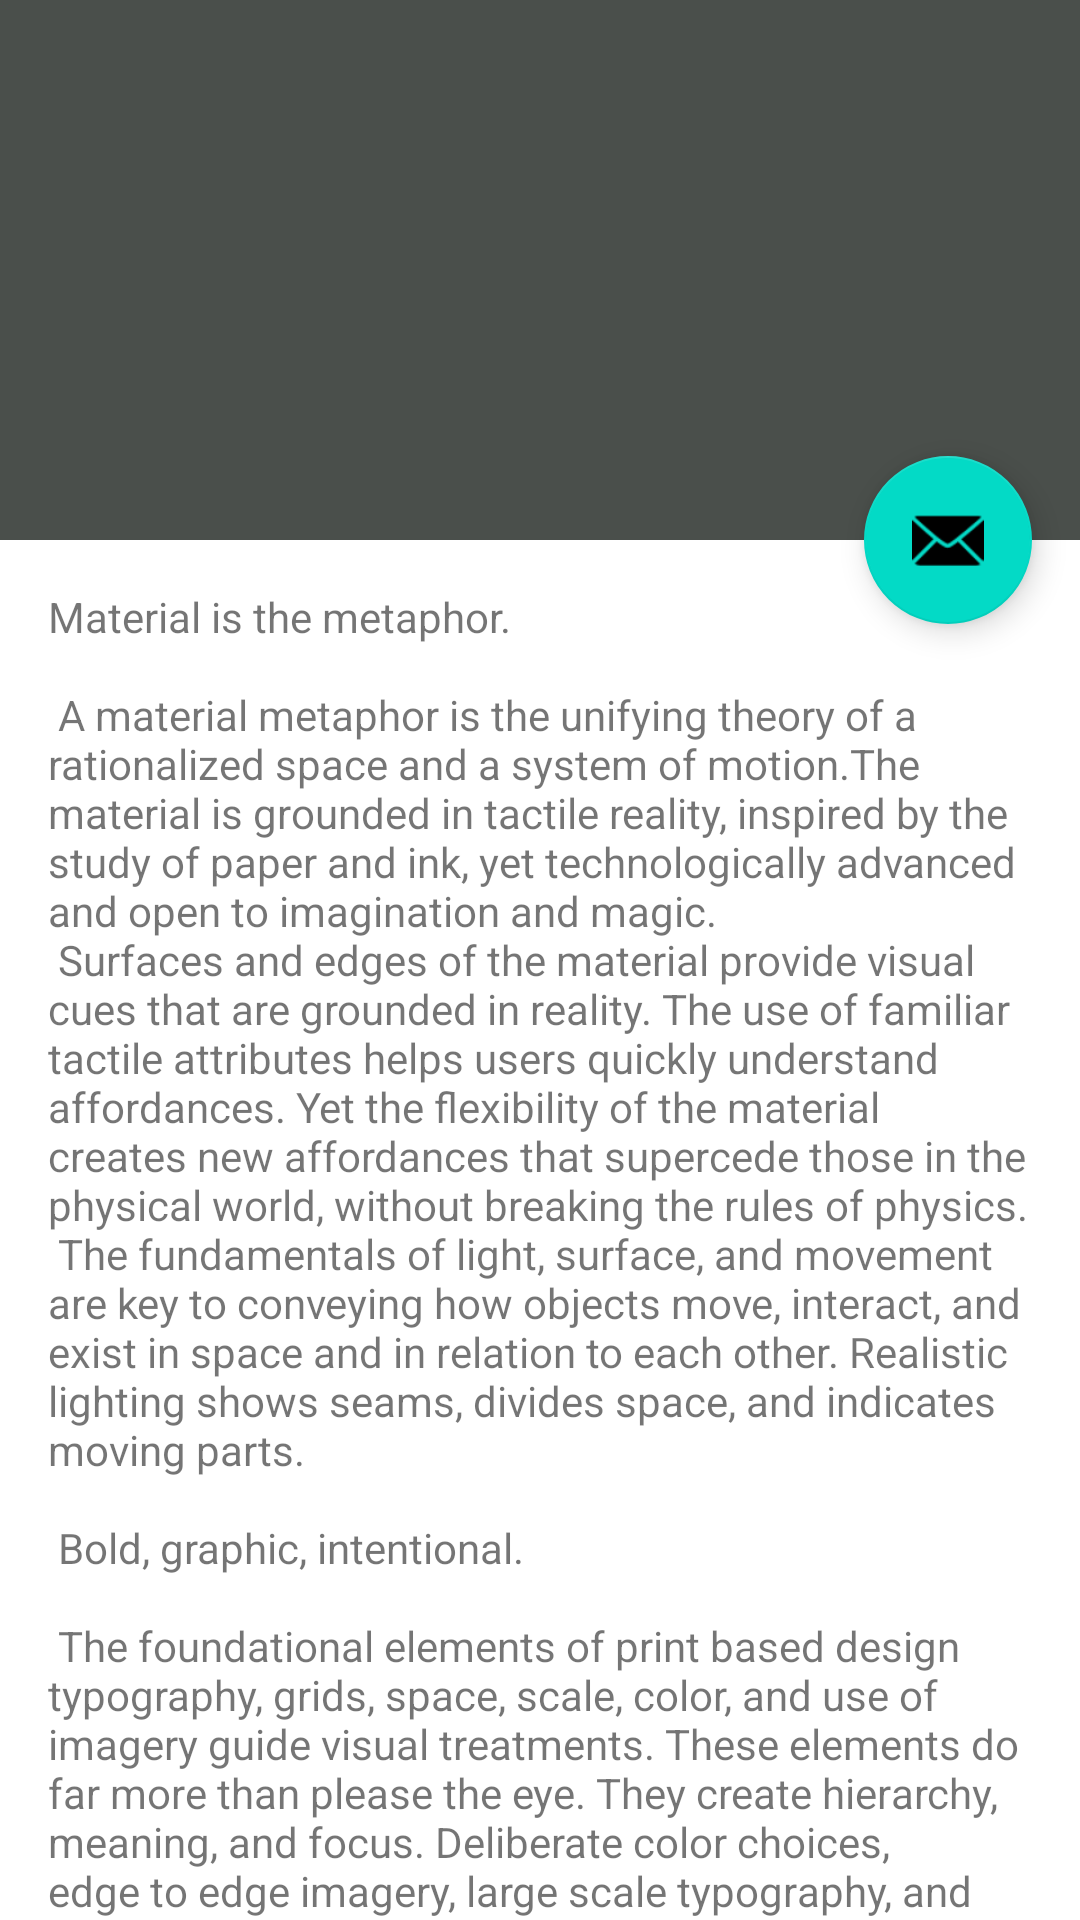

Point at icon controls on the screen. Image size 1080px×1920px, points as (x=x, y=y).
email: (x=948, y=540)
